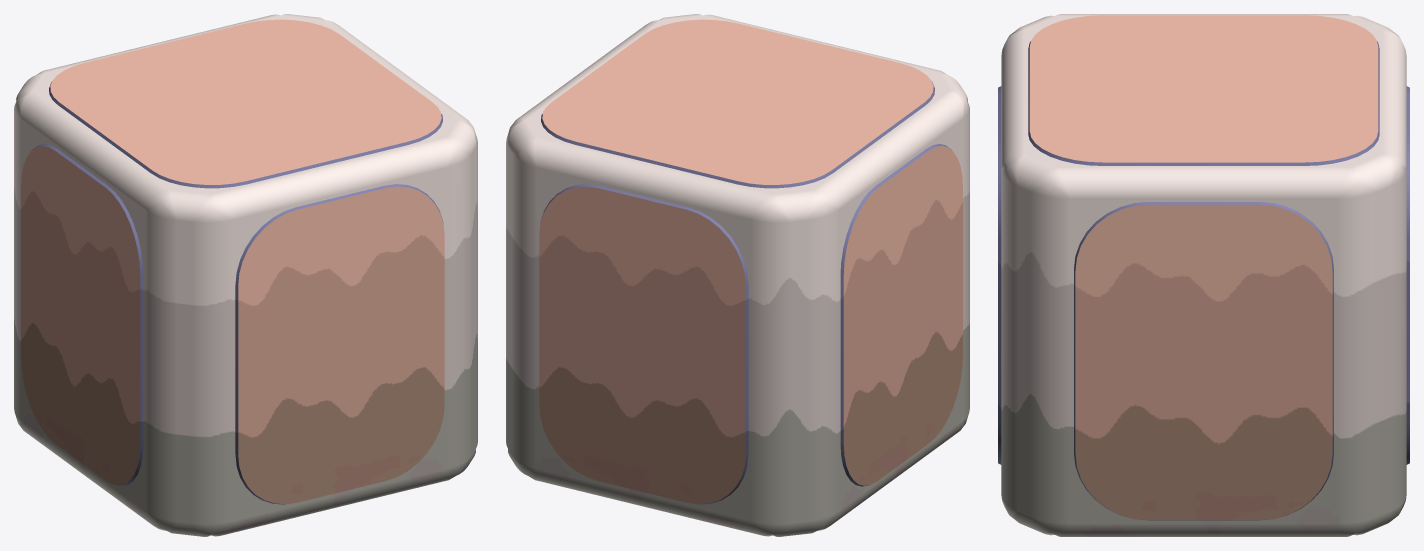
File: R4B_OctColumn.glb
3 renders of one model, left to right at view 1: azimuth 30°, elevation 25°; view 2: azimuth 150°, elevation 25°; view 3: azimuth 270°, elevation 25°, orthographic. The views are drawn at different scales.
Visible parts, largest first — view 1: R4B_OctColumn; view 2: R4B_OctColumn; view 3: R4B_OctColumn.
Boxes of the visible parts, x1,y1,x2,y2 form: R4B_OctColumn: (14,14,477,536); R4B_OctColumn: (506,14,969,536); R4B_OctColumn: (998,14,1409,536).
Bounding box in the file's own units: 0.52 × 0.52 × 0.52.
Materials: 3 (3 with a texture image).
